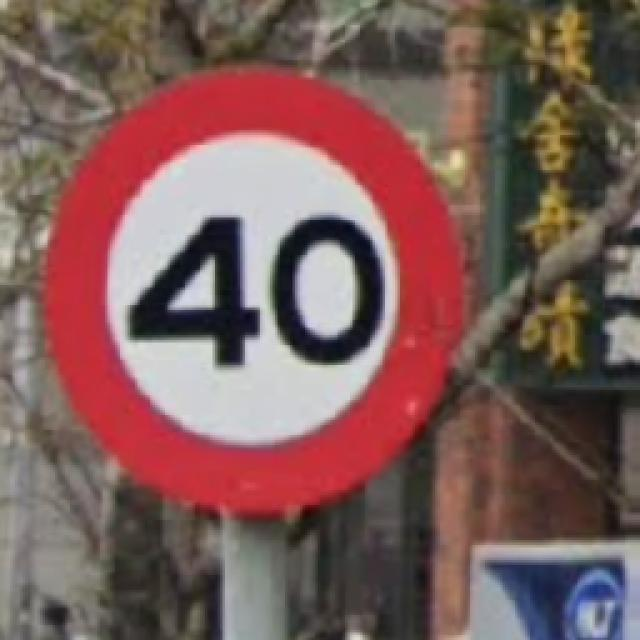Speed Limit -40-: (48, 70, 460, 512)
